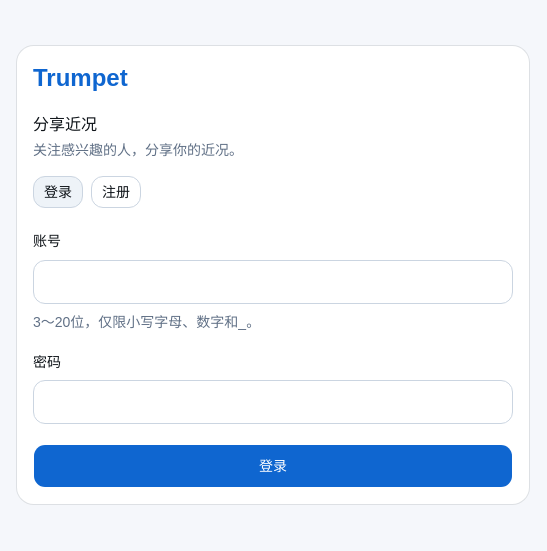
Scenario: App authentication › shows authentication errors without leaving the login screen
Expected: the heading "分享近况" is shown, left=33, top=116, right=97, bottom=133
In the field labelled "账号": (273, 282) left=33, top=260, right=513, bottom=304, type "mina"
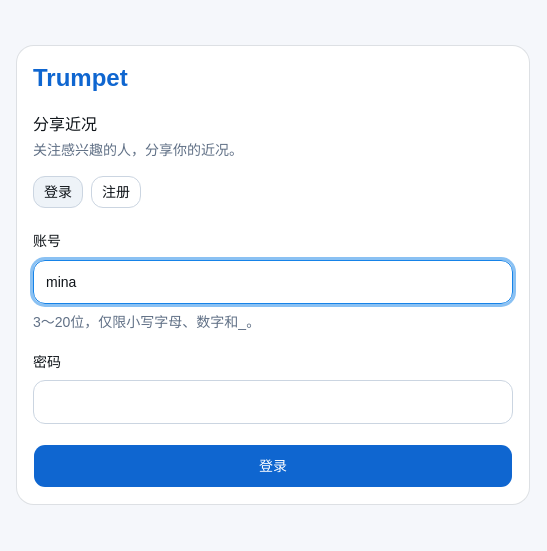
In the password field labelled "密码": (273, 402) left=33, top=380, right=513, bottom=424, type "password123"
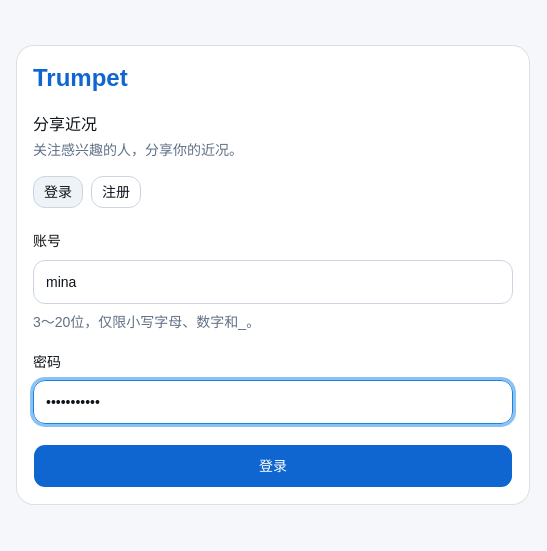
Click the button "登录" below "密码": (273, 466) left=33, top=444, right=513, bottom=488
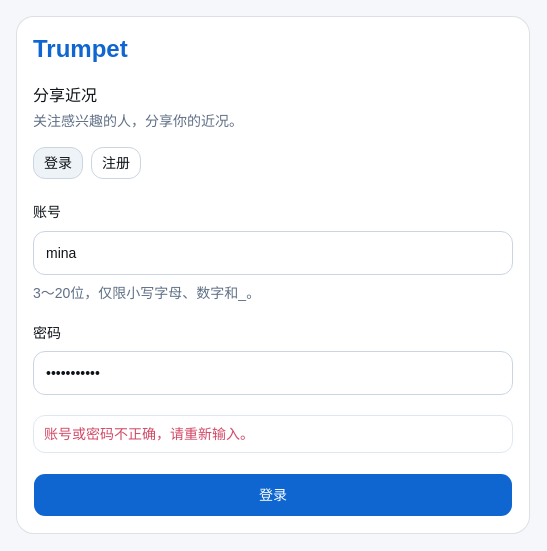
Expected: the text "账号或密码不正确，请重新输入。" is shown, left=44, top=426, right=254, bottom=442
